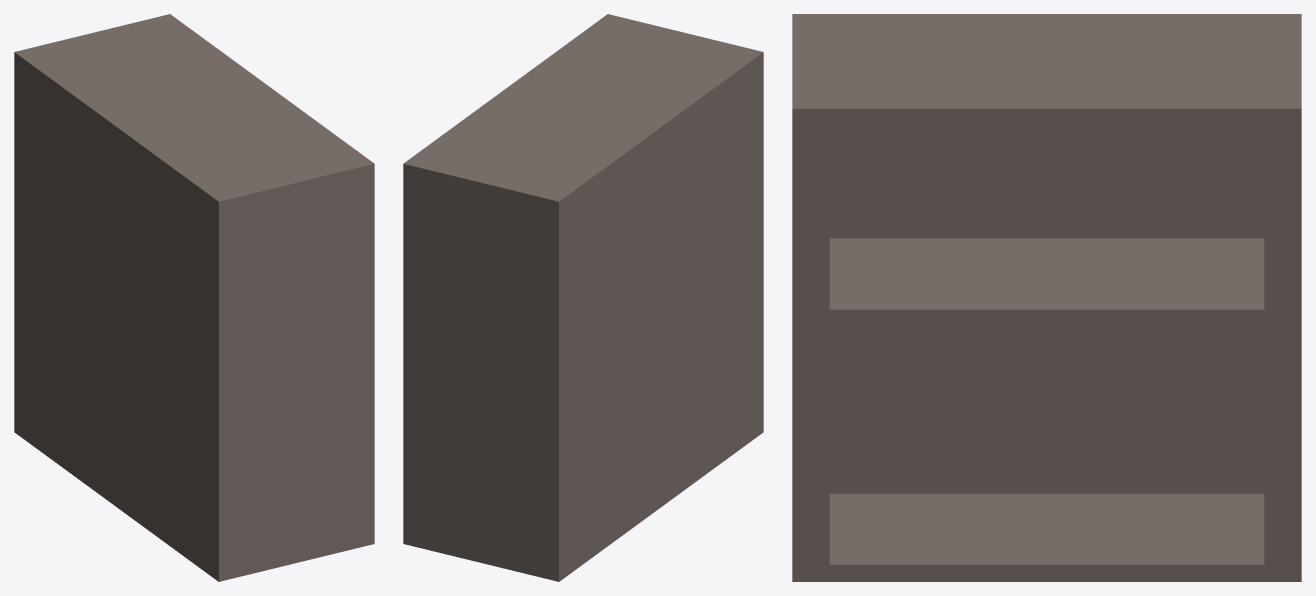
The model's file is closet.fbx.
The picture shows the model from 3 angles, left to right: view 1: azimuth 30°, elevation 25°; view 2: azimuth 150°, elevation 25°; view 3: azimuth 270°, elevation 25°; orthographic projection. The views are drawn at different scales.
Parts seen in each view (by area): view 1: 수납장; view 2: 수납장; view 3: 수납장.
Part boxes in pixels (left/top/right/bottom): 수납장: left=14, top=14, right=374, bottom=581; 수납장: left=403, top=14, right=763, bottom=581; 수납장: left=792, top=14, right=1301, bottom=581.
Bounding box in the file's own units: 8.22 × 19.17 × 18.7.
